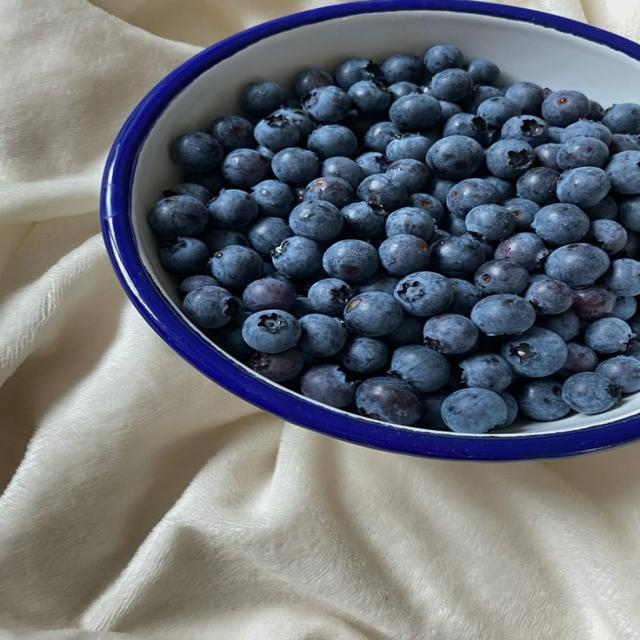blueberry: (501, 327, 567, 377), (356, 376, 422, 425), (441, 388, 506, 433), (389, 345, 450, 392), (546, 243, 609, 287), (344, 291, 402, 337), (394, 272, 453, 317), (471, 295, 535, 335), (427, 136, 484, 180), (242, 310, 300, 353), (322, 240, 379, 283), (532, 203, 589, 245), (301, 365, 358, 407), (563, 372, 620, 414), (149, 196, 207, 236), (183, 286, 238, 328), (289, 200, 342, 243), (431, 236, 486, 277), (209, 246, 264, 287), (170, 132, 224, 172), (424, 314, 478, 354), (557, 167, 611, 206), (379, 234, 429, 276), (271, 237, 322, 278), (518, 380, 570, 420), (460, 354, 513, 392), (494, 233, 548, 270), (447, 179, 499, 217), (299, 314, 346, 356), (389, 94, 441, 131), (208, 190, 258, 228), (486, 139, 533, 179), (474, 260, 529, 294), (302, 86, 352, 123), (160, 237, 208, 275), (466, 205, 515, 242), (222, 149, 269, 187), (358, 174, 407, 210), (585, 318, 635, 353), (341, 337, 389, 373), (243, 278, 295, 311), (251, 349, 303, 382), (524, 279, 573, 314), (541, 91, 590, 126), (272, 148, 318, 185), (307, 125, 357, 159), (386, 207, 435, 241), (557, 137, 608, 169), (210, 322, 254, 359), (341, 202, 385, 239), (308, 279, 353, 315), (254, 115, 299, 151), (517, 168, 559, 206), (596, 356, 639, 393), (241, 81, 286, 116), (304, 177, 353, 208), (253, 180, 294, 217), (210, 116, 253, 151), (334, 59, 381, 91), (501, 115, 548, 147), (443, 113, 488, 146), (320, 156, 365, 189), (271, 107, 315, 140), (606, 151, 639, 195), (387, 159, 428, 193), (348, 81, 391, 113), (588, 219, 627, 254), (559, 342, 598, 377), (431, 69, 473, 101), (537, 310, 580, 341), (603, 259, 639, 296), (447, 278, 482, 315), (384, 316, 424, 348), (477, 98, 521, 127), (561, 121, 612, 146), (202, 229, 249, 255), (502, 198, 540, 230), (386, 134, 431, 161), (505, 83, 544, 114), (416, 391, 446, 429), (424, 45, 463, 74), (293, 69, 333, 97), (364, 122, 400, 153), (462, 85, 502, 112), (603, 104, 639, 134), (163, 183, 212, 205), (407, 194, 444, 223), (183, 169, 224, 194), (355, 273, 399, 295), (484, 175, 516, 202), (427, 177, 455, 207), (179, 275, 219, 296), (356, 152, 390, 176), (534, 143, 562, 172), (583, 196, 618, 219), (467, 59, 499, 84), (618, 197, 639, 232), (500, 392, 519, 428), (608, 297, 637, 320), (609, 134, 639, 155), (389, 81, 419, 101), (290, 296, 316, 319), (620, 232, 639, 259), (440, 101, 463, 120), (446, 216, 467, 236), (476, 239, 494, 261), (422, 126, 442, 144), (587, 100, 604, 121), (430, 229, 451, 245), (256, 145, 276, 161), (548, 127, 565, 144), (626, 343, 639, 359), (628, 316, 639, 334)
